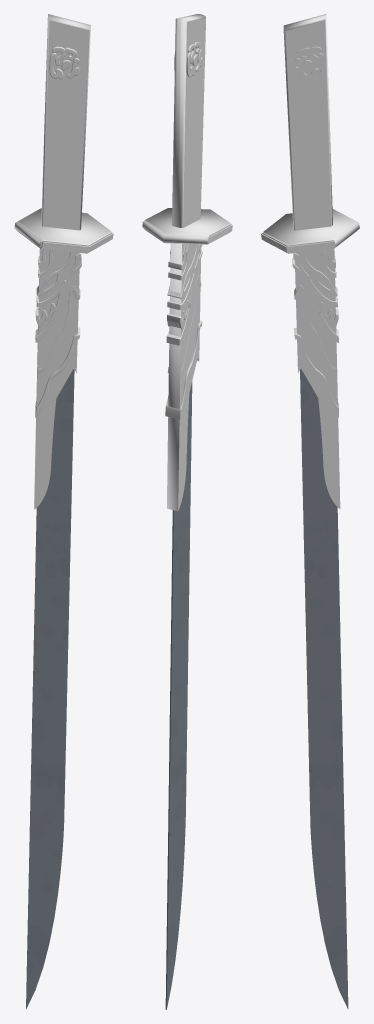
Rendered from 1000 demon dagger.fbx.
3 views of the same model, side by side, from view 1: azimuth 90°, elevation 25°; view 2: azimuth 150°, elevation 25°; view 3: azimuth 270°, elevation 25° (orthographic).
Visible parts, largest first — view 1: Blade, Handle, Blade Holder, Ddemon Pattern, Handle Guard; view 2: Blade, Handle, Blade Holder, Ddemon Pattern, Handle Guard; view 3: Blade, Handle, Blade Holder, Ddemon Pattern, Handle Guard.
Boxes of the visible parts, bbox=[...] form: Blade: bbox=[26, 369, 74, 1009]; Handle: bbox=[41, 14, 90, 230]; Blade Holder: bbox=[34, 248, 79, 509]; Ddemon Pattern: bbox=[35, 46, 81, 417]; Handle Guard: bbox=[14, 208, 113, 253]; Blade: bbox=[165, 381, 192, 1009]; Handle: bbox=[172, 14, 205, 227]; Blade Holder: bbox=[167, 243, 201, 511]; Ddemon Pattern: bbox=[165, 42, 202, 419]; Handle Guard: bbox=[142, 208, 232, 244]; Blade: bbox=[300, 369, 348, 1009]; Handle: bbox=[283, 14, 332, 230]; Blade Holder: bbox=[294, 248, 340, 508]; Ddemon Pattern: bbox=[292, 46, 338, 417]; Handle Guard: bbox=[261, 209, 359, 253].
Size of the model in its own units: 80.19 by 1138 by 103.
